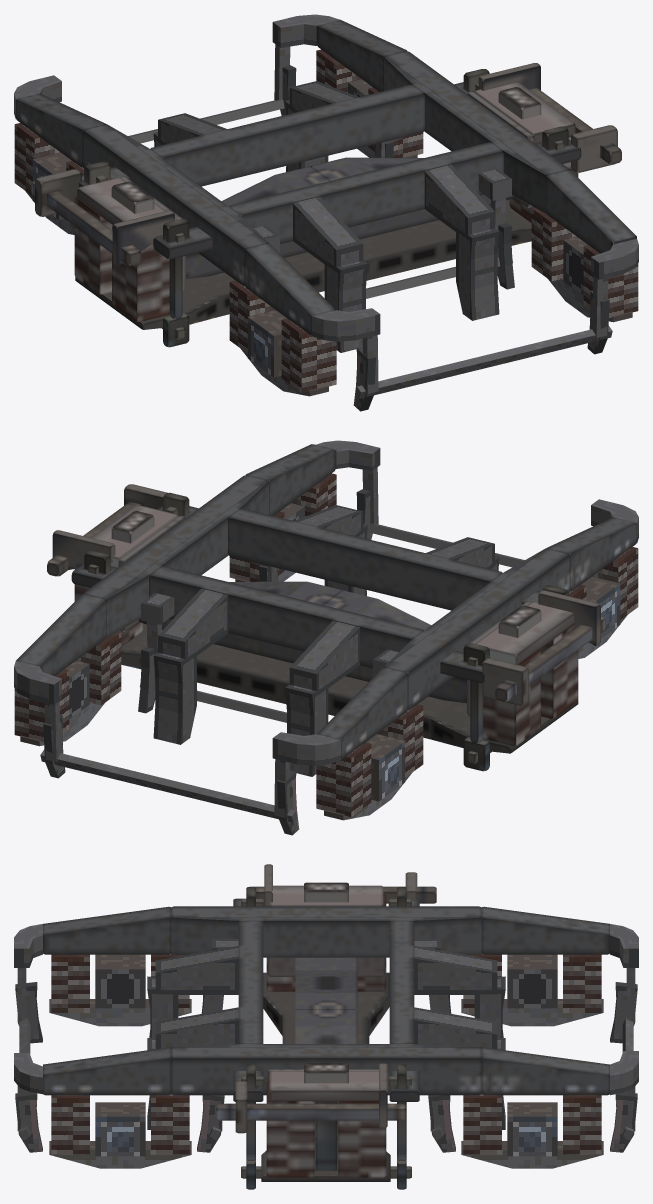
The model's file is pk209_nomotor.obj.
3 views of the same model, one above another, from view 1: azimuth 30°, elevation 25°; view 2: azimuth 150°, elevation 25°; view 3: azimuth 270°, elevation 25° (orthographic). The views are drawn at different scales.
Visible parts, largest first — view 1: cube, 刹车夹, 刹车支架; view 2: cube, 刹车夹, 刹车支架; view 3: cube, 刹车支架, 刹车夹.
Boxes of the visible parts, box(x1,y1,x2,y2) form: cube: box(14, 14, 638, 398); 刹车夹: box(153, 65, 609, 411); 刹车支架: box(158, 81, 494, 270); cube: box(14, 440, 638, 822); 刹车夹: box(43, 489, 499, 835); 刹车支架: box(158, 505, 494, 695); cube: box(14, 864, 638, 1189); 刹车支架: box(155, 946, 497, 1048); 刹车夹: box(15, 976, 637, 1152).
Bounding box in the file's own units: 3.15 × 0.765 × 3.65.
Materials: 4 (4 with a texture image).
